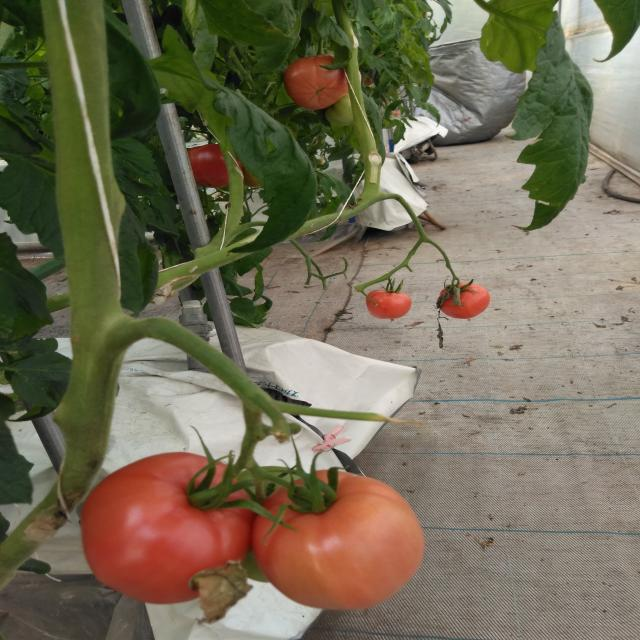n-half-riped: (250, 468, 426, 611), (284, 53, 361, 111)
n-riped: (80, 452, 258, 604), (188, 143, 242, 189), (437, 282, 490, 319), (365, 290, 411, 318)
n-unriped: (324, 91, 354, 126)
